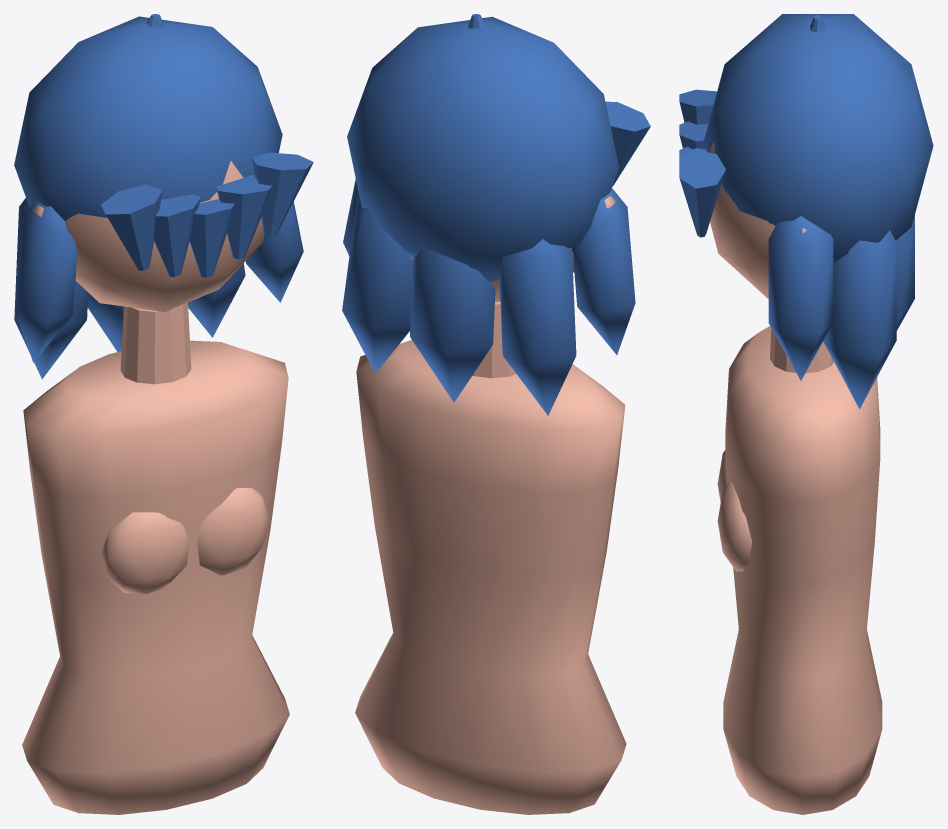
The model's file is nene_blockout.glb.
3 renders of one model, left to right at view 1: azimuth 30°, elevation 25°; view 2: azimuth 150°, elevation 25°; view 3: azimuth 270°, elevation 25°, orthographic. The views are drawn at different scales.
Visible parts, largest first — view 1: Torso_Silhouette, Hair_Cap_Blockout, Head_Blockout, Hair_SideLock_L, Torso_Chest_L_Blockout, Neck_Blockout, Torso_Chest_R_Blockout, Hair_Bang_01, Hair_Bang_05, Hair_SideLock_R, Hair_Bang_04, Hair_Bang_02 (+4 smaller); view 2: Torso_Silhouette, Hair_Cap_Blockout, Hair_BackLock_L, Hair_BackCenter, Hair_BackLock_R, Hair_SideLock_L, Hair_Bang_01, Neck_Blockout; view 3: Torso_Silhouette, Hair_Cap_Blockout, Hair_BackLock_R, Hair_SideLock_R, Head_Blockout, Hair_Bang_05, Torso_Chest_R_Blockout, Hair_BackCenter, Hair_Bang_01, Neck_Blockout, Hair_Bang_02.
Boxes of the visible parts, x1,y1,x2,y2 form: Torso_Silhouette: (22, 340, 289, 814); Hair_Cap_Blockout: (14, 16, 282, 220); Head_Blockout: (65, 161, 264, 312); Hair_SideLock_L: (15, 200, 77, 362); Torso_Chest_L_Blockout: (101, 512, 188, 594); Neck_Blockout: (120, 302, 191, 384); Torso_Chest_R_Blockout: (197, 487, 269, 575); Hair_Bang_01: (101, 184, 162, 270); Hair_Bang_05: (252, 152, 313, 236); Hair_SideLock_R: (245, 202, 303, 302); Hair_Bang_04: (216, 175, 272, 259); Hair_Bang_02: (154, 194, 200, 276); Torso_Silhouette: (355, 340, 626, 814); Hair_Cap_Blockout: (347, 16, 619, 281); Hair_BackLock_L: (499, 239, 576, 415); Hair_BackCenter: (410, 243, 495, 402); Hair_BackLock_R: (342, 196, 413, 373); Hair_SideLock_L: (573, 188, 635, 354); Hair_Bang_01: (605, 101, 650, 186); Neck_Blockout: (472, 301, 516, 378); Torso_Silhouette: (723, 326, 882, 814); Hair_Cap_Blockout: (702, 14, 933, 263); Hair_BackLock_R: (823, 230, 896, 409); Hair_SideLock_R: (768, 216, 833, 380); Head_Blockout: (709, 141, 775, 298); Hair_Bang_05: (679, 150, 725, 237); Torso_Chest_R_Blockout: (717, 482, 751, 571); Hair_BackCenter: (896, 215, 914, 330); Hair_Bang_01: (679, 89, 716, 124); Neck_Blockout: (770, 328, 833, 373); Hair_Bang_02: (679, 121, 708, 149).
Bounding box in the file's own units: 1.69 × 4.38 × 1.34.
